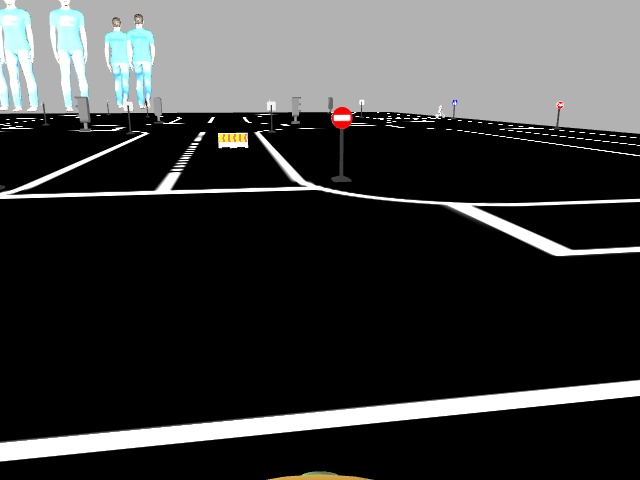ClosedRoadStand: (219, 133, 248, 147)
NoEntry: (329, 107, 350, 126)
